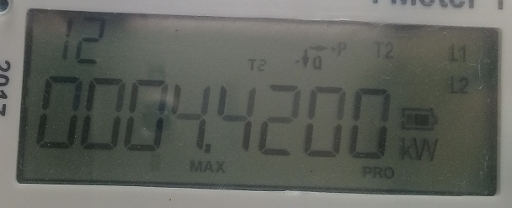0: (33, 70, 85, 157), (344, 81, 396, 165), (122, 68, 169, 153), (83, 70, 128, 155), (304, 85, 348, 168)
2: (256, 81, 306, 159)
4: (165, 65, 209, 150), (215, 81, 259, 153)
d: (200, 140, 222, 157)
